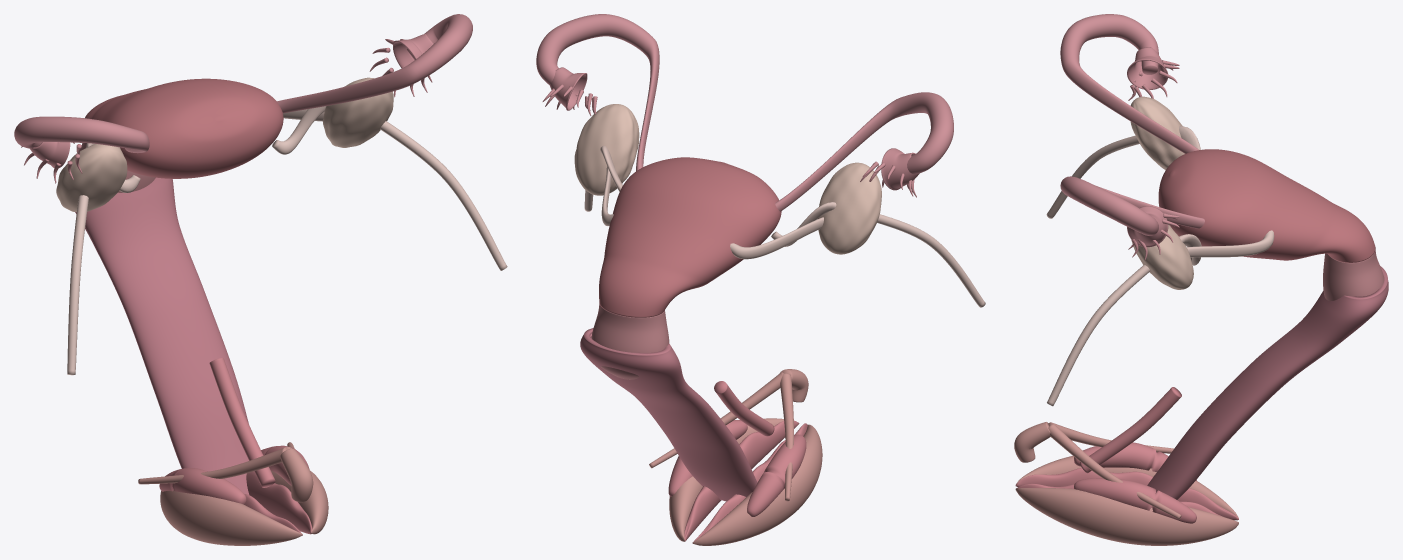
File: reproductive-female.glb
3 renders of one model, left to right at view 1: azimuth 30°, elevation 25°; view 2: azimuth 150°, elevation 25°; view 3: azimuth 270°, elevation 25°, orthographic. The views are drawn at different scales.
Parts seen in each view (by area): view 1: Vagina, Uterus, Uterine tube.l, Labium majus.r, Uterine tube.r, Ovary.r, Ovary.l, Round ligament.l, Clitoris, Round ligament.r, Female urethra, Labium minus.l (+2 smaller); view 2: Uterus, Vagina, Uterine tube.r, Uterine tube.l, Ovary.r, Ovary.l, Labium majus.r, Cervix, Clitoris, Vestibular bulb.r, Labium minus.l, Round ligament.r (+5 smaller); view 3: Uterus, Vagina, Labium majus.l, Uterine tube.r, Uterine tube.l, Clitoris, Cervix, Vestibular bulb.l, Ovary.l, Ovary.r, Round ligament.l, Labium minus.r (+5 smaller).
Boxes of the visible parts, box(x1,y1,x2,y2) form: Vagina: box(75, 177, 249, 494); Uterus: box(85, 78, 283, 178); Uterine tube.l: box(277, 14, 472, 113); Labium majus.r: box(160, 490, 302, 545); Uterine tube.r: box(14, 116, 149, 183); Ovary.r: box(56, 144, 127, 211); Ovary.l: box(323, 77, 393, 147); Round ligament.l: box(272, 106, 507, 270); Clitoris: box(138, 442, 313, 502); Round ligament.r: box(67, 175, 140, 375); Female urethra: box(209, 358, 275, 487); Labium minus.l: box(246, 471, 312, 534); Uterus: box(599, 157, 781, 317); Vagina: box(580, 328, 757, 501); Uterine tube.r: box(775, 92, 953, 211); Uterine tube.l: box(536, 14, 659, 171); Ovary.r: box(817, 162, 881, 254); Ovary.l: box(574, 104, 639, 195); Labium majus.r: box(692, 424, 822, 545); Cervix: box(591, 303, 669, 379); Clitoris: box(649, 369, 808, 501); Vestibular bulb.r: box(747, 434, 806, 516); Labium minus.l: box(684, 420, 799, 540); Round ligament.r: box(771, 202, 985, 307); Uterus: box(1158, 149, 1375, 262); Vagina: box(1147, 266, 1388, 499); Labium majus.l: box(1015, 488, 1238, 545); Uterine tube.r: box(1060, 14, 1198, 153); Uterine tube.l: box(1060, 176, 1204, 260); Clitoris: box(1014, 422, 1181, 519); Cervix: box(1323, 250, 1384, 300); Vestibular bulb.l: box(1074, 478, 1196, 523); Ovary.l: box(1131, 224, 1193, 289); Ovary.r: box(1130, 96, 1184, 170); Round ligament.l: box(1047, 234, 1201, 406); Labium minus.r: box(1015, 467, 1238, 520).
Size of the model in its own units: 0.1487 by 0.1515 by 0.1208.
